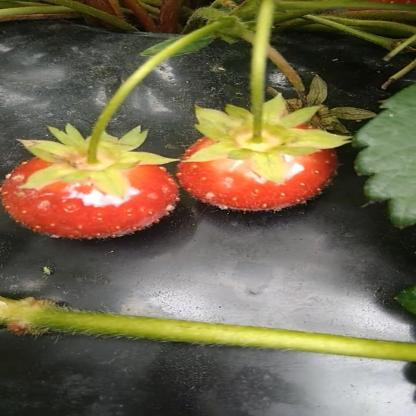ripe: (0, 148, 178, 242), (178, 132, 344, 215)
